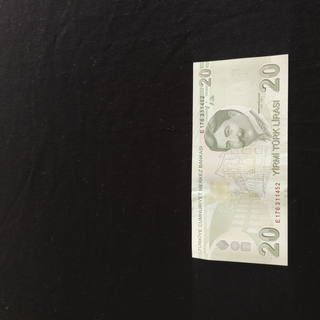20TLBack: (191, 54, 290, 266)
